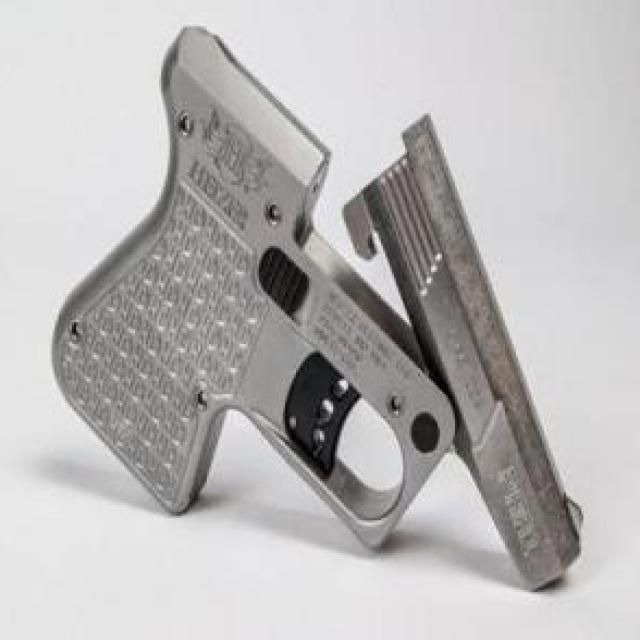pistol: (50, 24, 597, 591)
